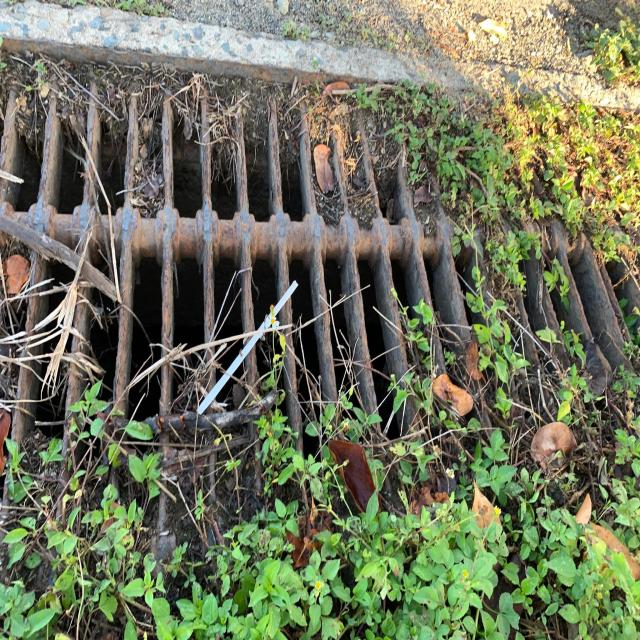litter: (245, 283, 293, 347), (199, 347, 245, 409)
